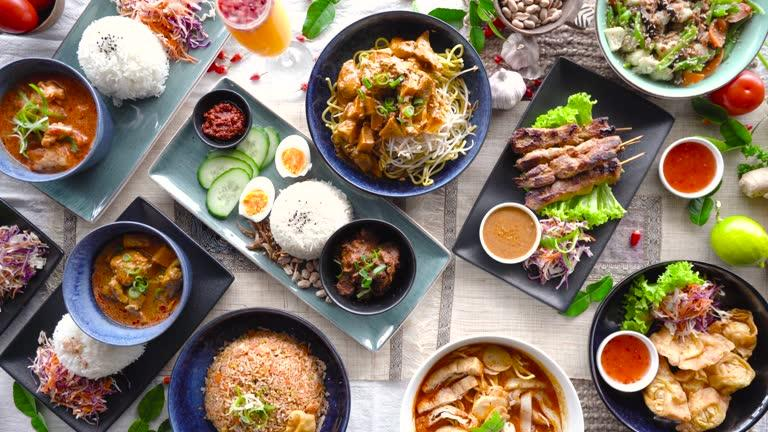Braised Crucian Carp: (133, 62, 470, 372), (450, 57, 674, 312), (14, 212, 209, 422), (306, 11, 484, 198), (587, 260, 767, 431), (167, 307, 348, 431), (402, 331, 580, 432), (598, 1, 765, 100), (0, 55, 111, 195)
